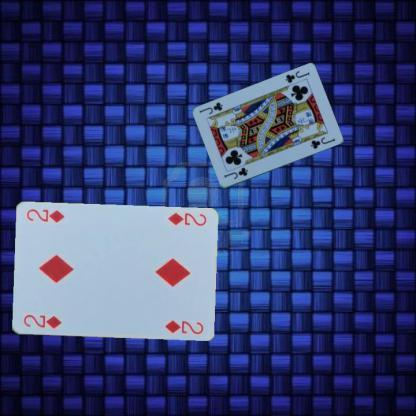2d: (21, 312, 63, 330), (166, 210, 208, 227)
Jc: (282, 69, 311, 84), (221, 165, 249, 180)
